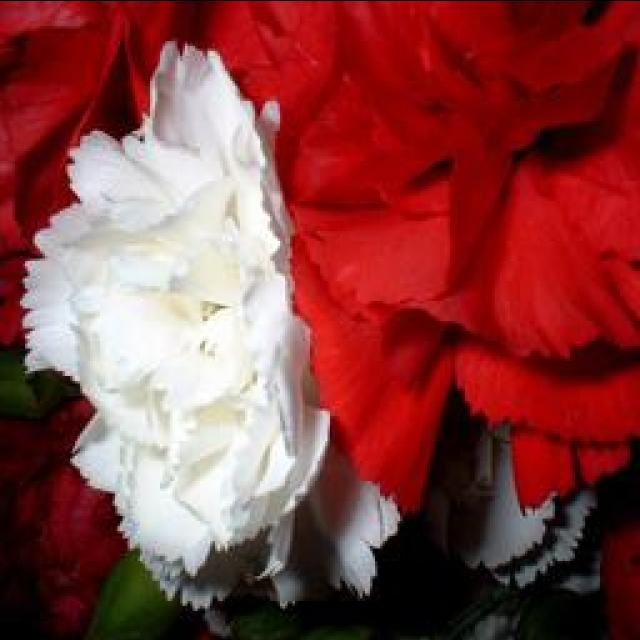carnation: (15, 63, 301, 611)
